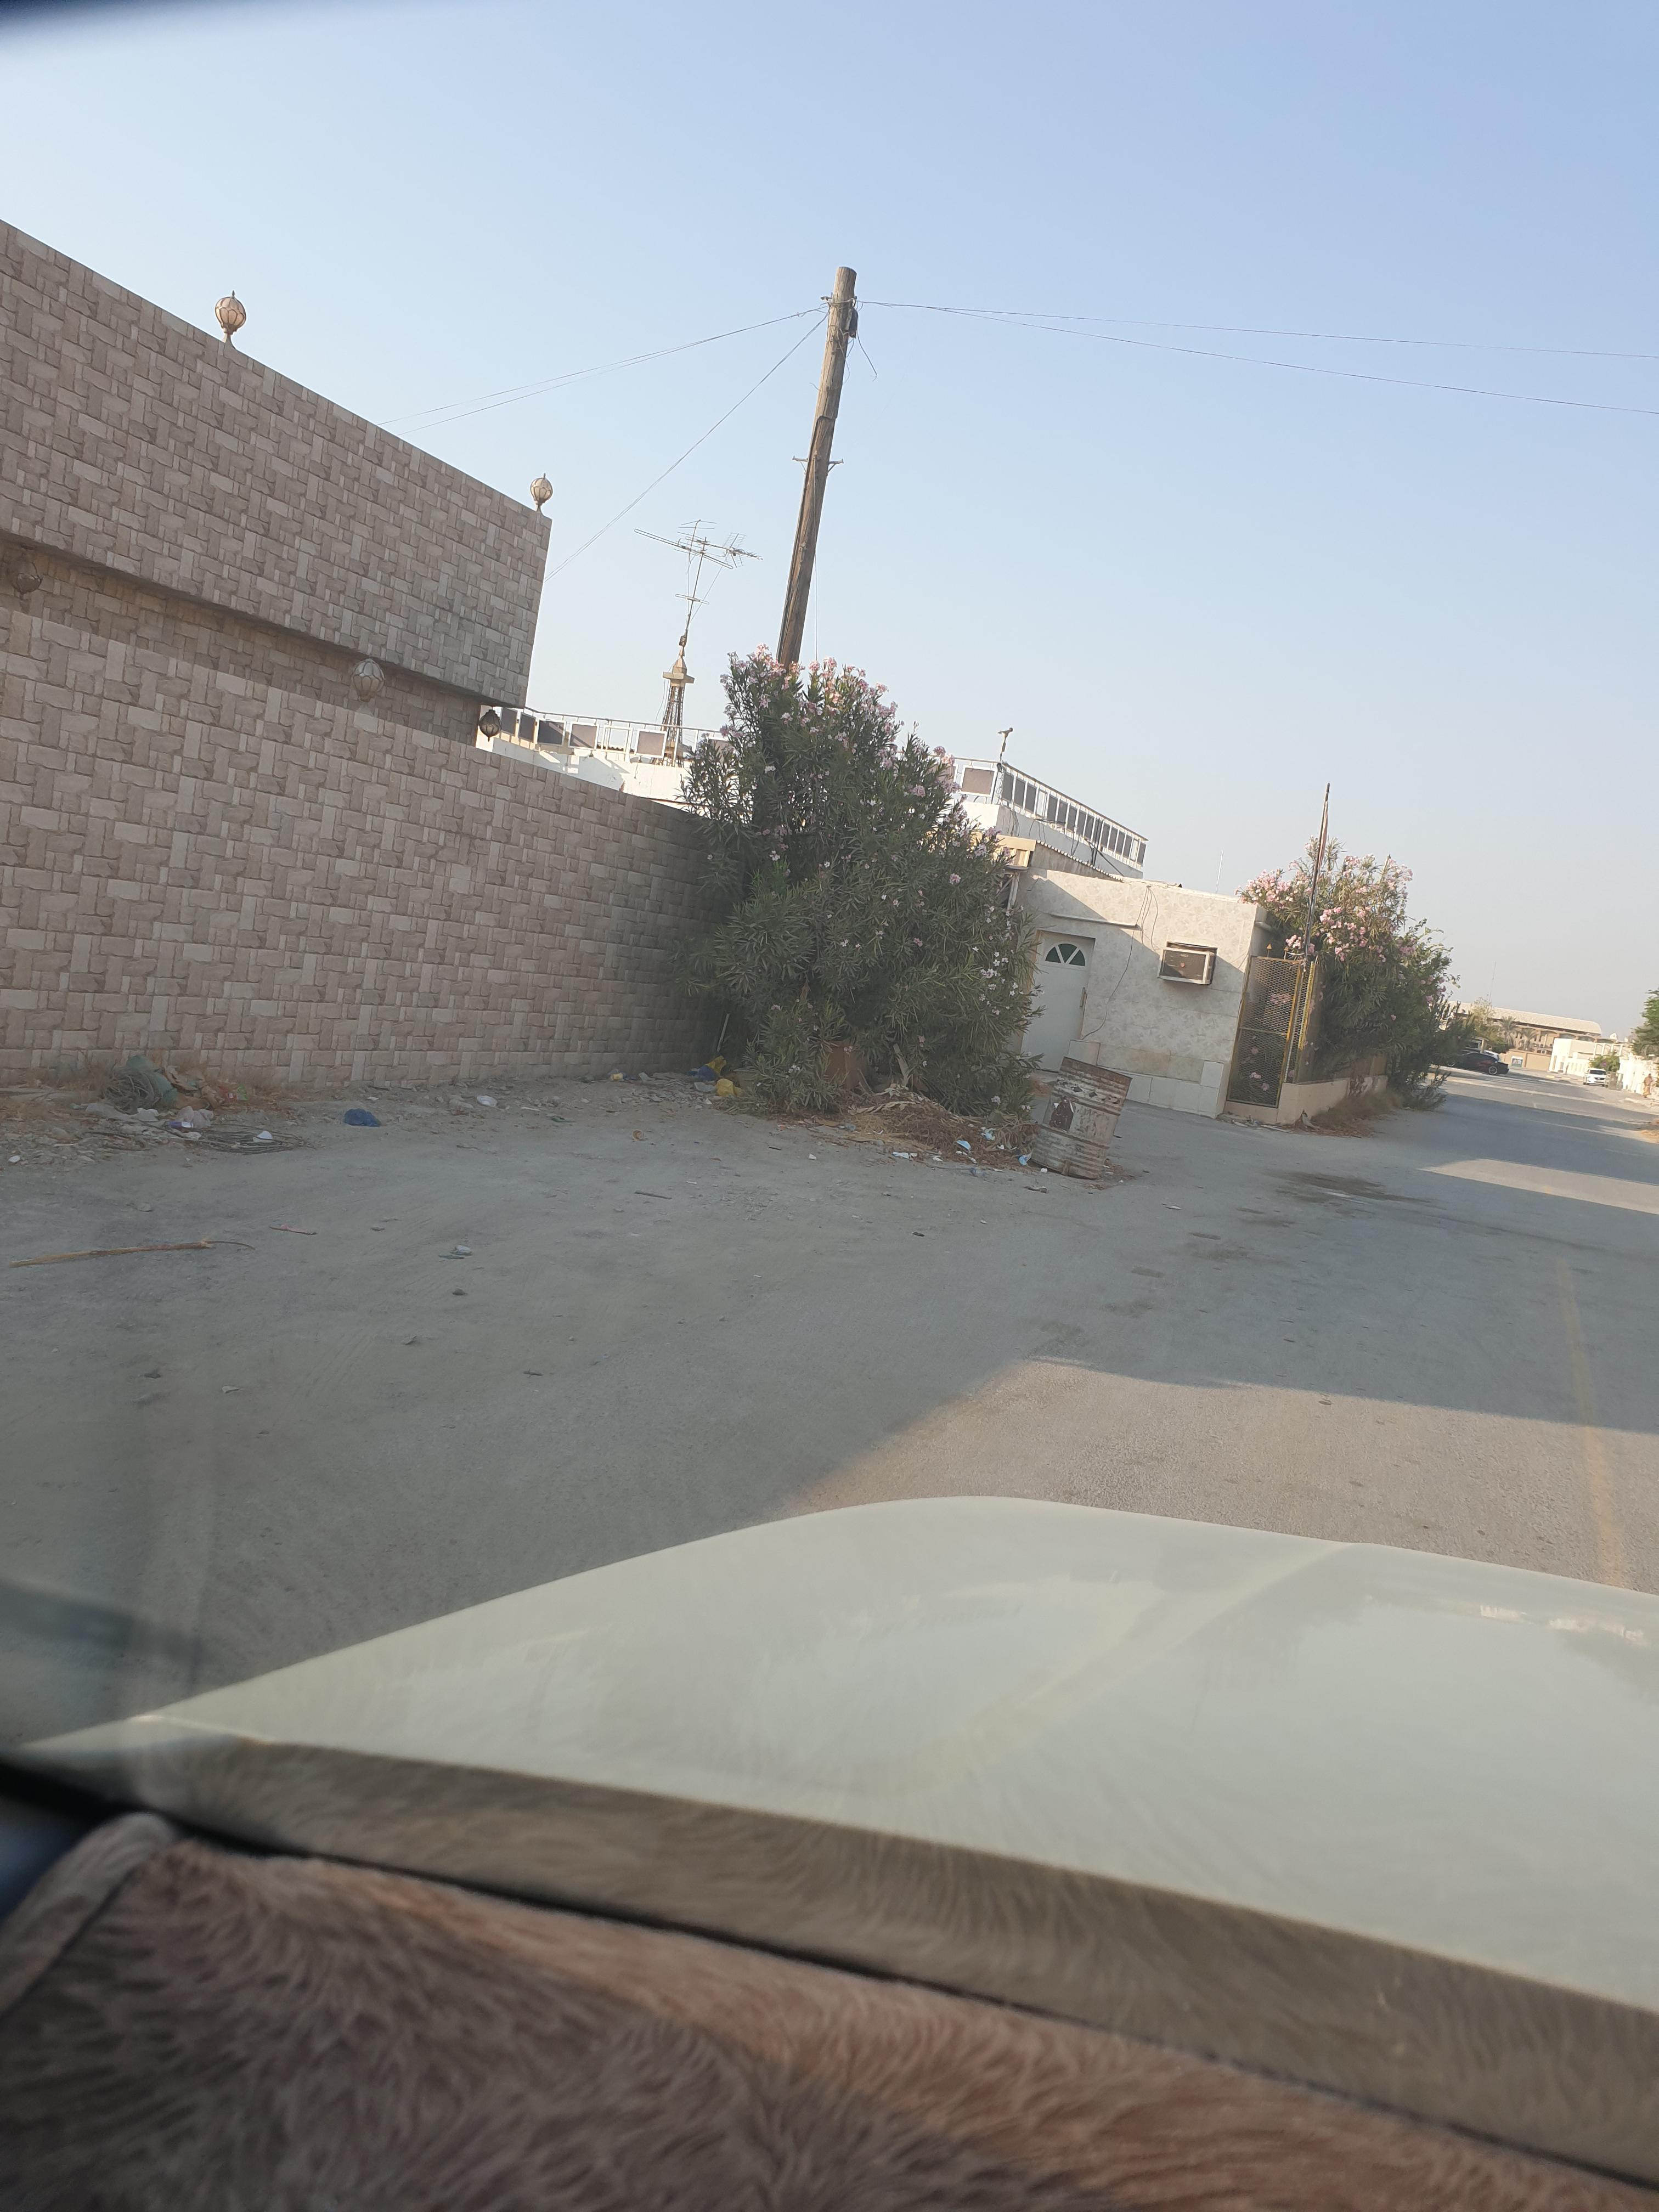fallen_trees: (831, 1113, 1040, 1165)
